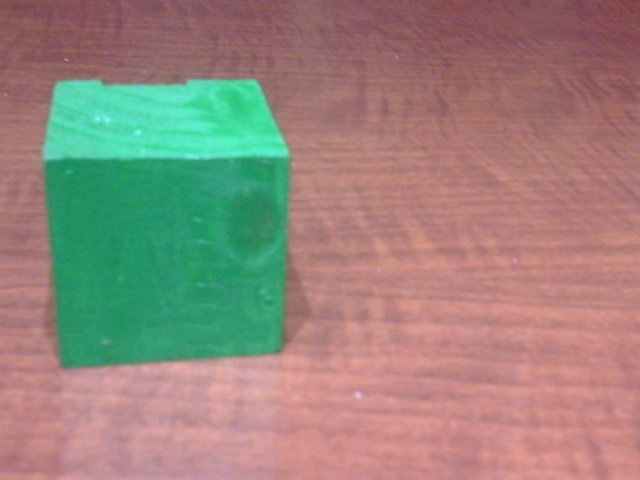GreenBlock: (44, 79, 290, 371)
